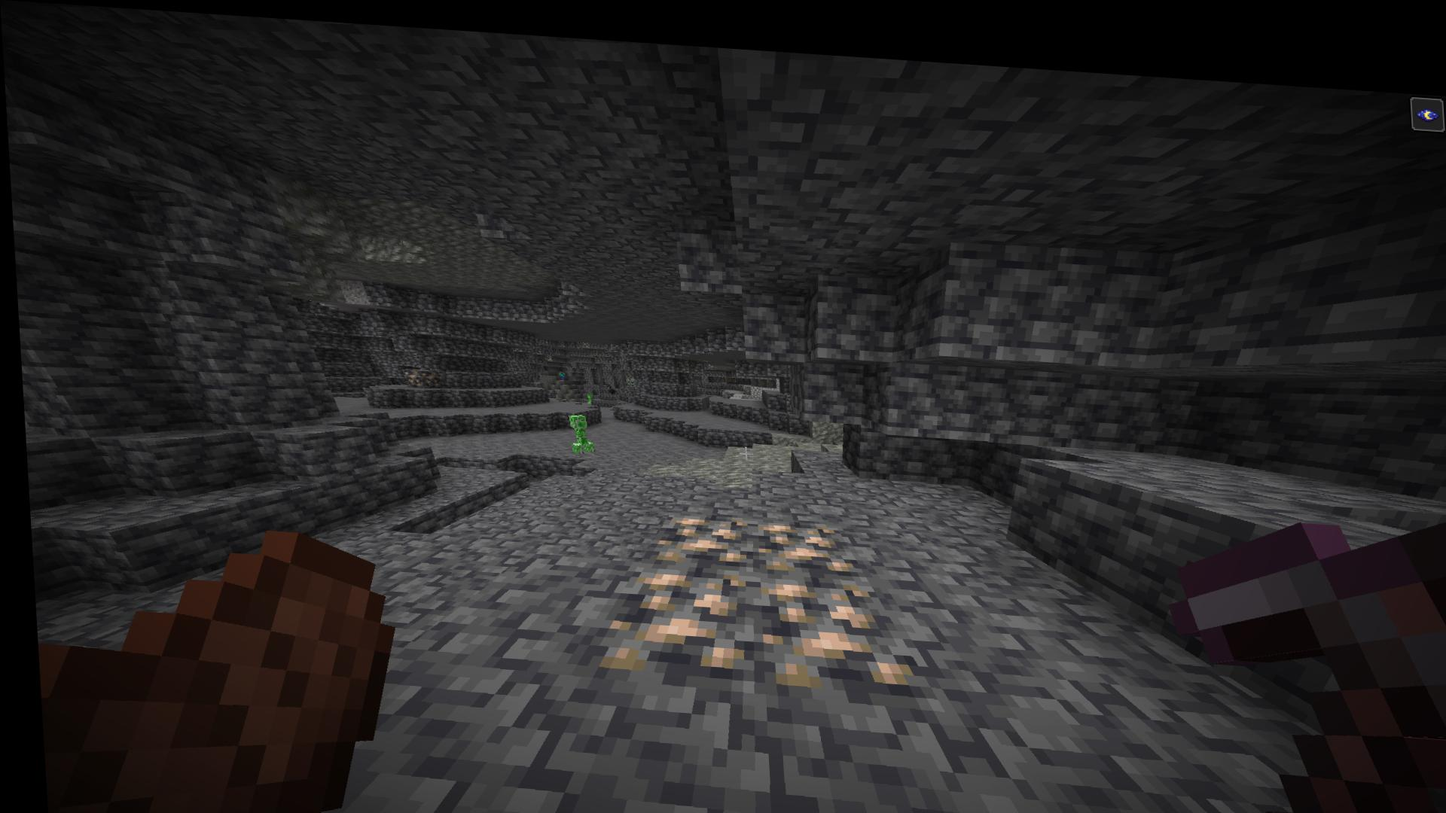iron ore: (755, 560, 910, 685), (592, 558, 755, 675), (640, 500, 750, 564), (749, 507, 851, 567), (398, 362, 418, 382), (417, 362, 435, 382)
